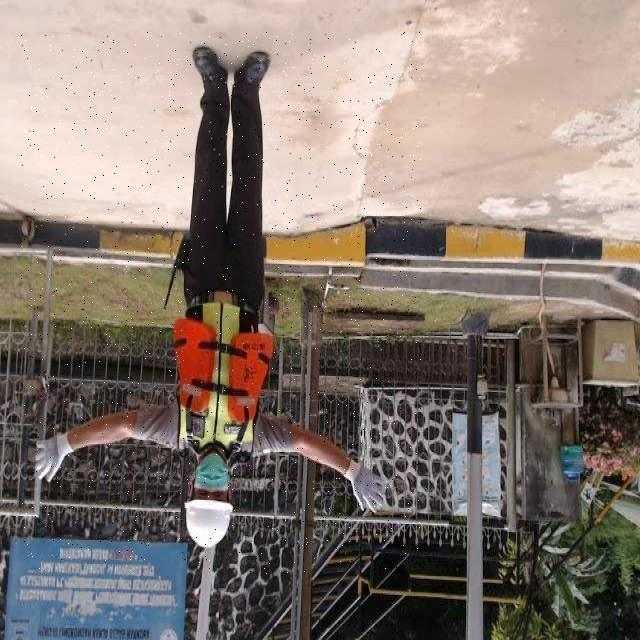Boots: (230, 46, 273, 102), (191, 43, 230, 100)
Gloves: (340, 458, 390, 516), (29, 424, 72, 488)
Helmet: (184, 498, 233, 549)
Vest: (174, 301, 273, 462)
